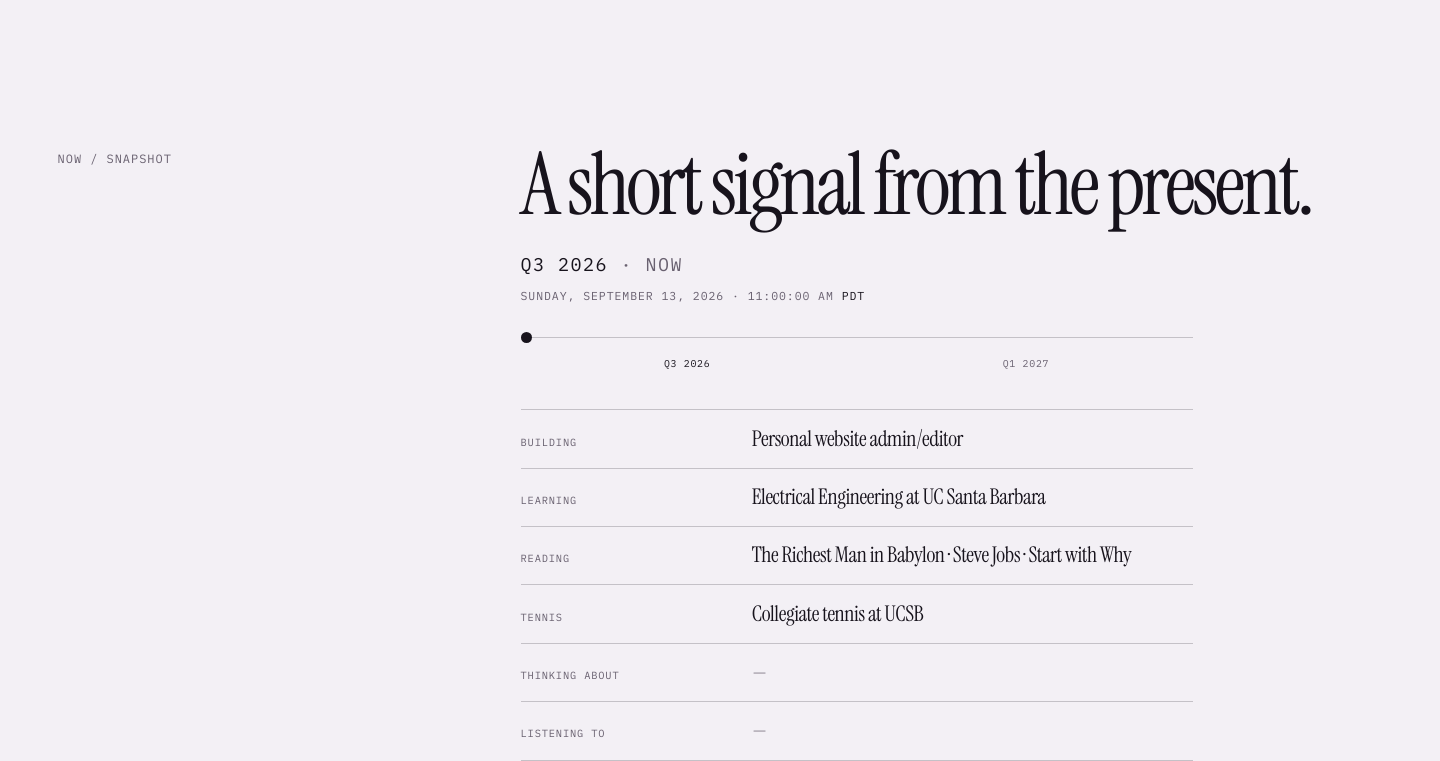
Test: PresentSnapshot › keeps the calendar current quarter when a later season is added
Expected: the button with aria-label "Building. Personal website admin/editor" is shown, [520,410,1192,469]
Expected: the text "· now" is shown, [608,252,683,276]
Click the button "Q1 2027" at (1026, 362), box [859,350,1192,373]
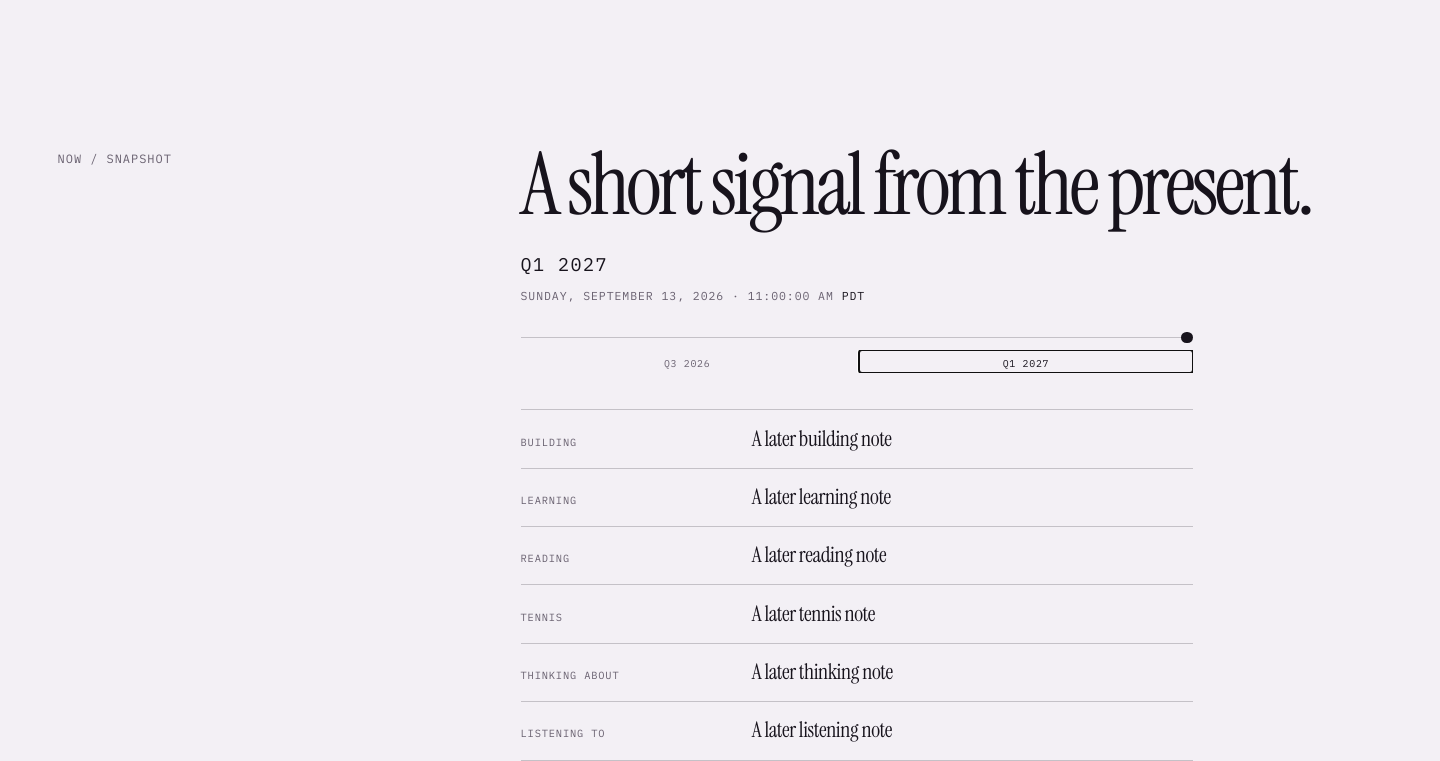
Expected: the element showing "Sunday, September 13, 2026 · 11:00:00 AM PDT" is shown, [520,288,865,303]
Expected: the text "· now" is gone
Set the slider named "Memory log" to "0" at (528, 338), box [520,327,1192,348]
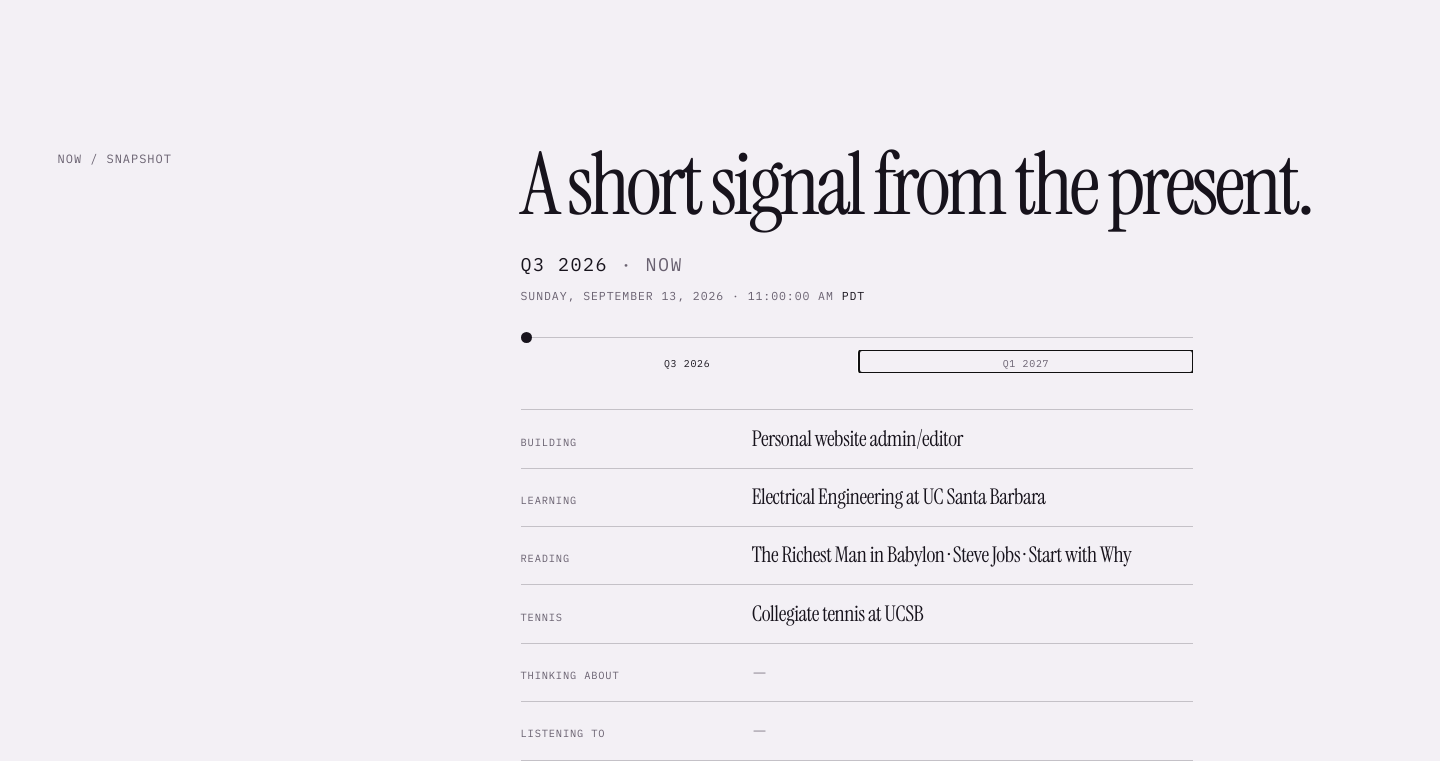
Expected: the button with aria-label "Building. Personal website admin/editor" is shown, [520,410,1192,469]
Expected: the text "· now" is shown, [608,252,683,276]
